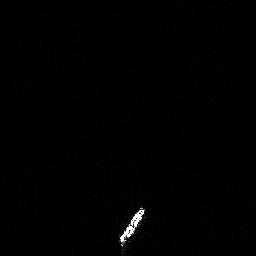ship: (116, 203, 148, 249)
